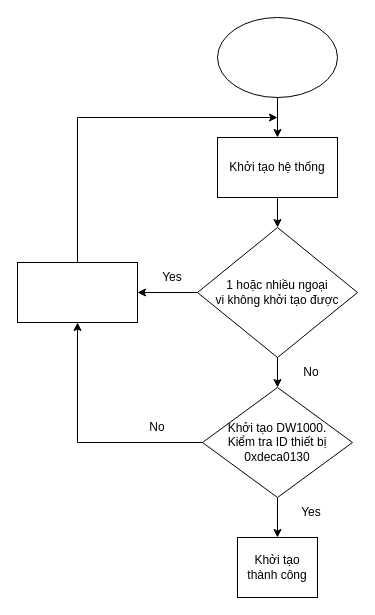
This 375x615 diagram has some shape labels left out. The shapes that lost their labels are listed below. From the top down, each one's box as (x1, y1, x2, y2) in pixels, then its label:
(216, 16, 338, 98): Bắt đầu
(16, 262, 138, 322): Error Handler
